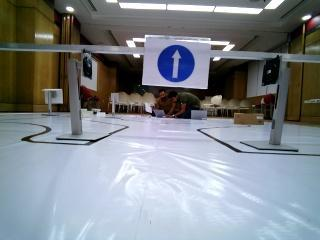straight: (142, 38, 212, 86)
